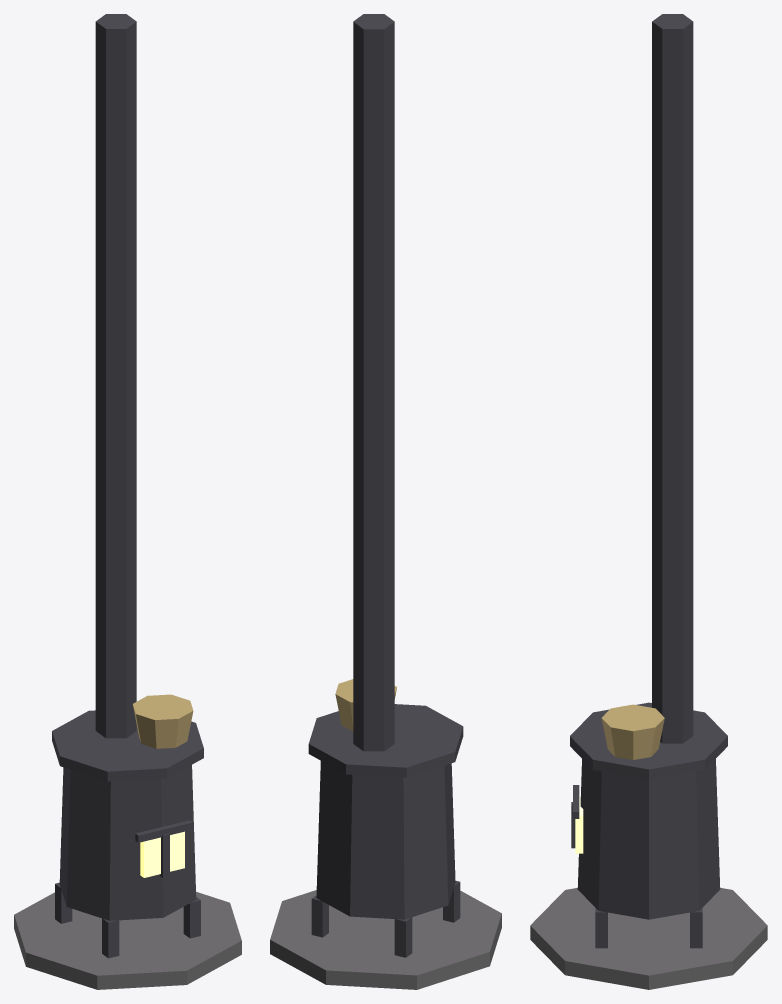
Rendered from stove.glb.
3 renders of one model, left to right at view 1: azimuth 30°, elevation 25°; view 2: azimuth 150°, elevation 25°; view 3: azimuth 270°, elevation 25°, orthographic.
Visible parts, largest first — view 1: stove; view 2: stove; view 3: stove.
Boxes of the visible parts, x1,y1,x2,y2 form: stove: (14,14,241,989); stove: (270,14,501,989); stove: (530,14,767,989).
Bounding box in the file's own units: 1.5 × 6.4 × 1.5.
